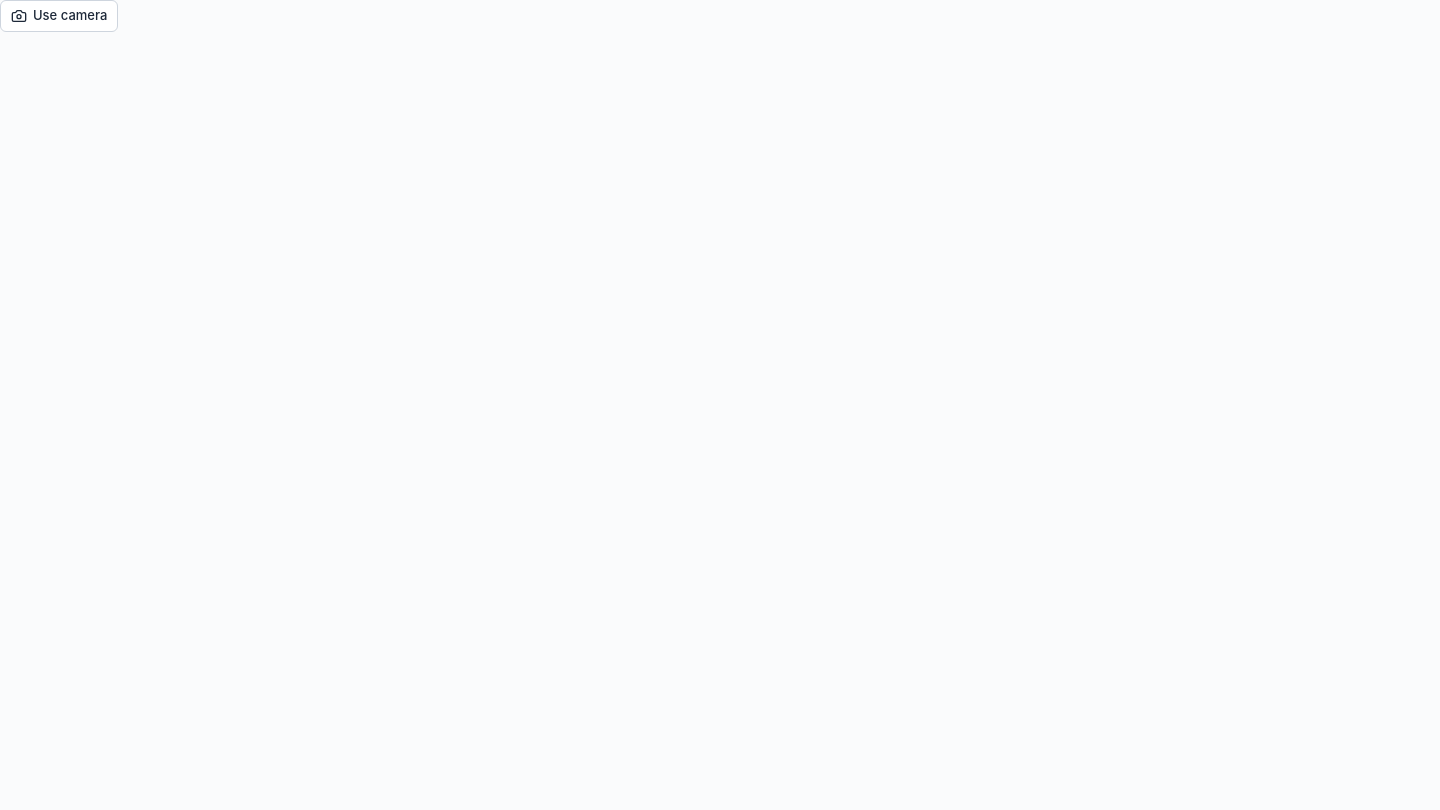
Test: WebcamCapture › falls back when the browser has no camera API
Click the button "Use camera" at point(59, 16), box [0,0,118,32]
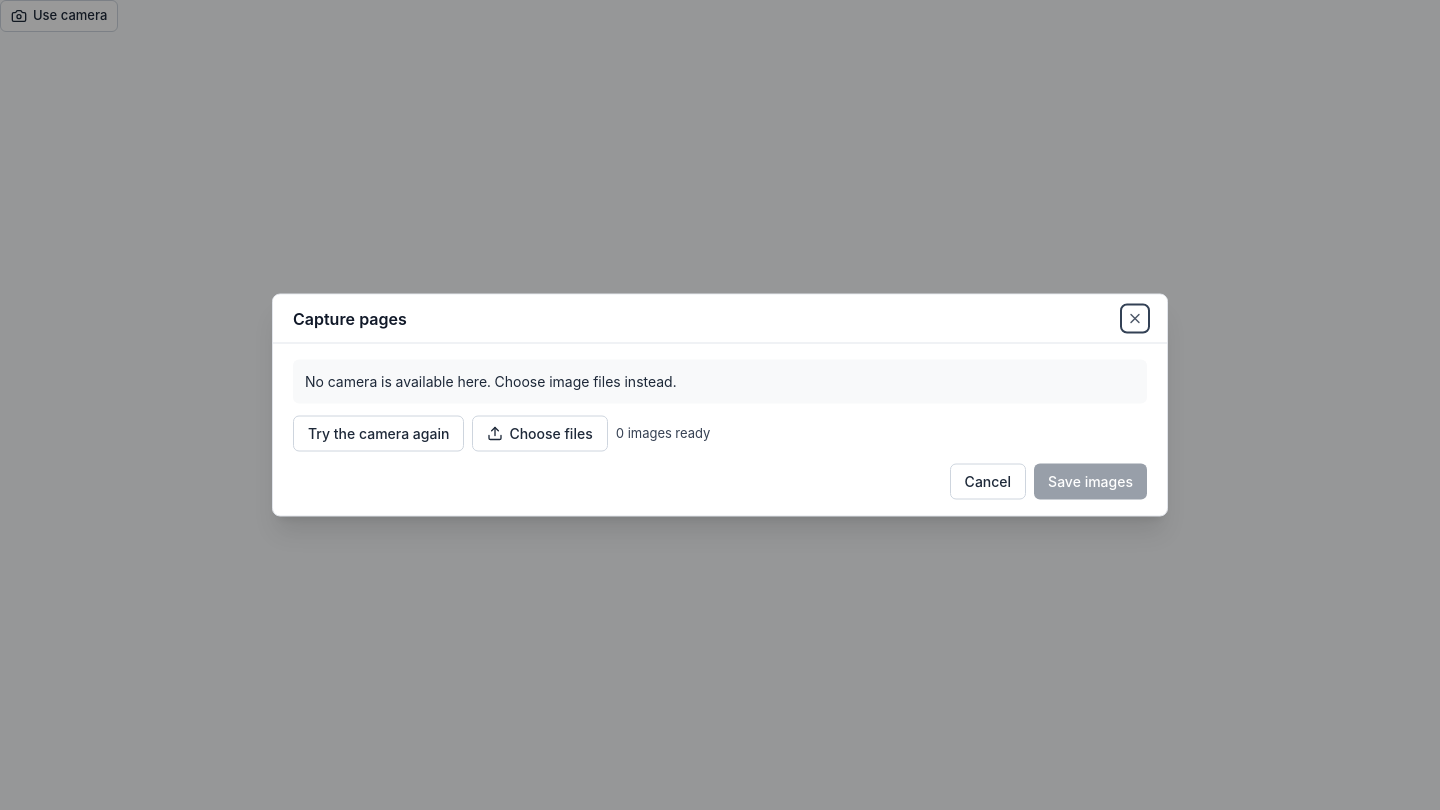
Check: the message "No camera is available here. Choose image files instead." is shown, box [293,360,1147,404]
